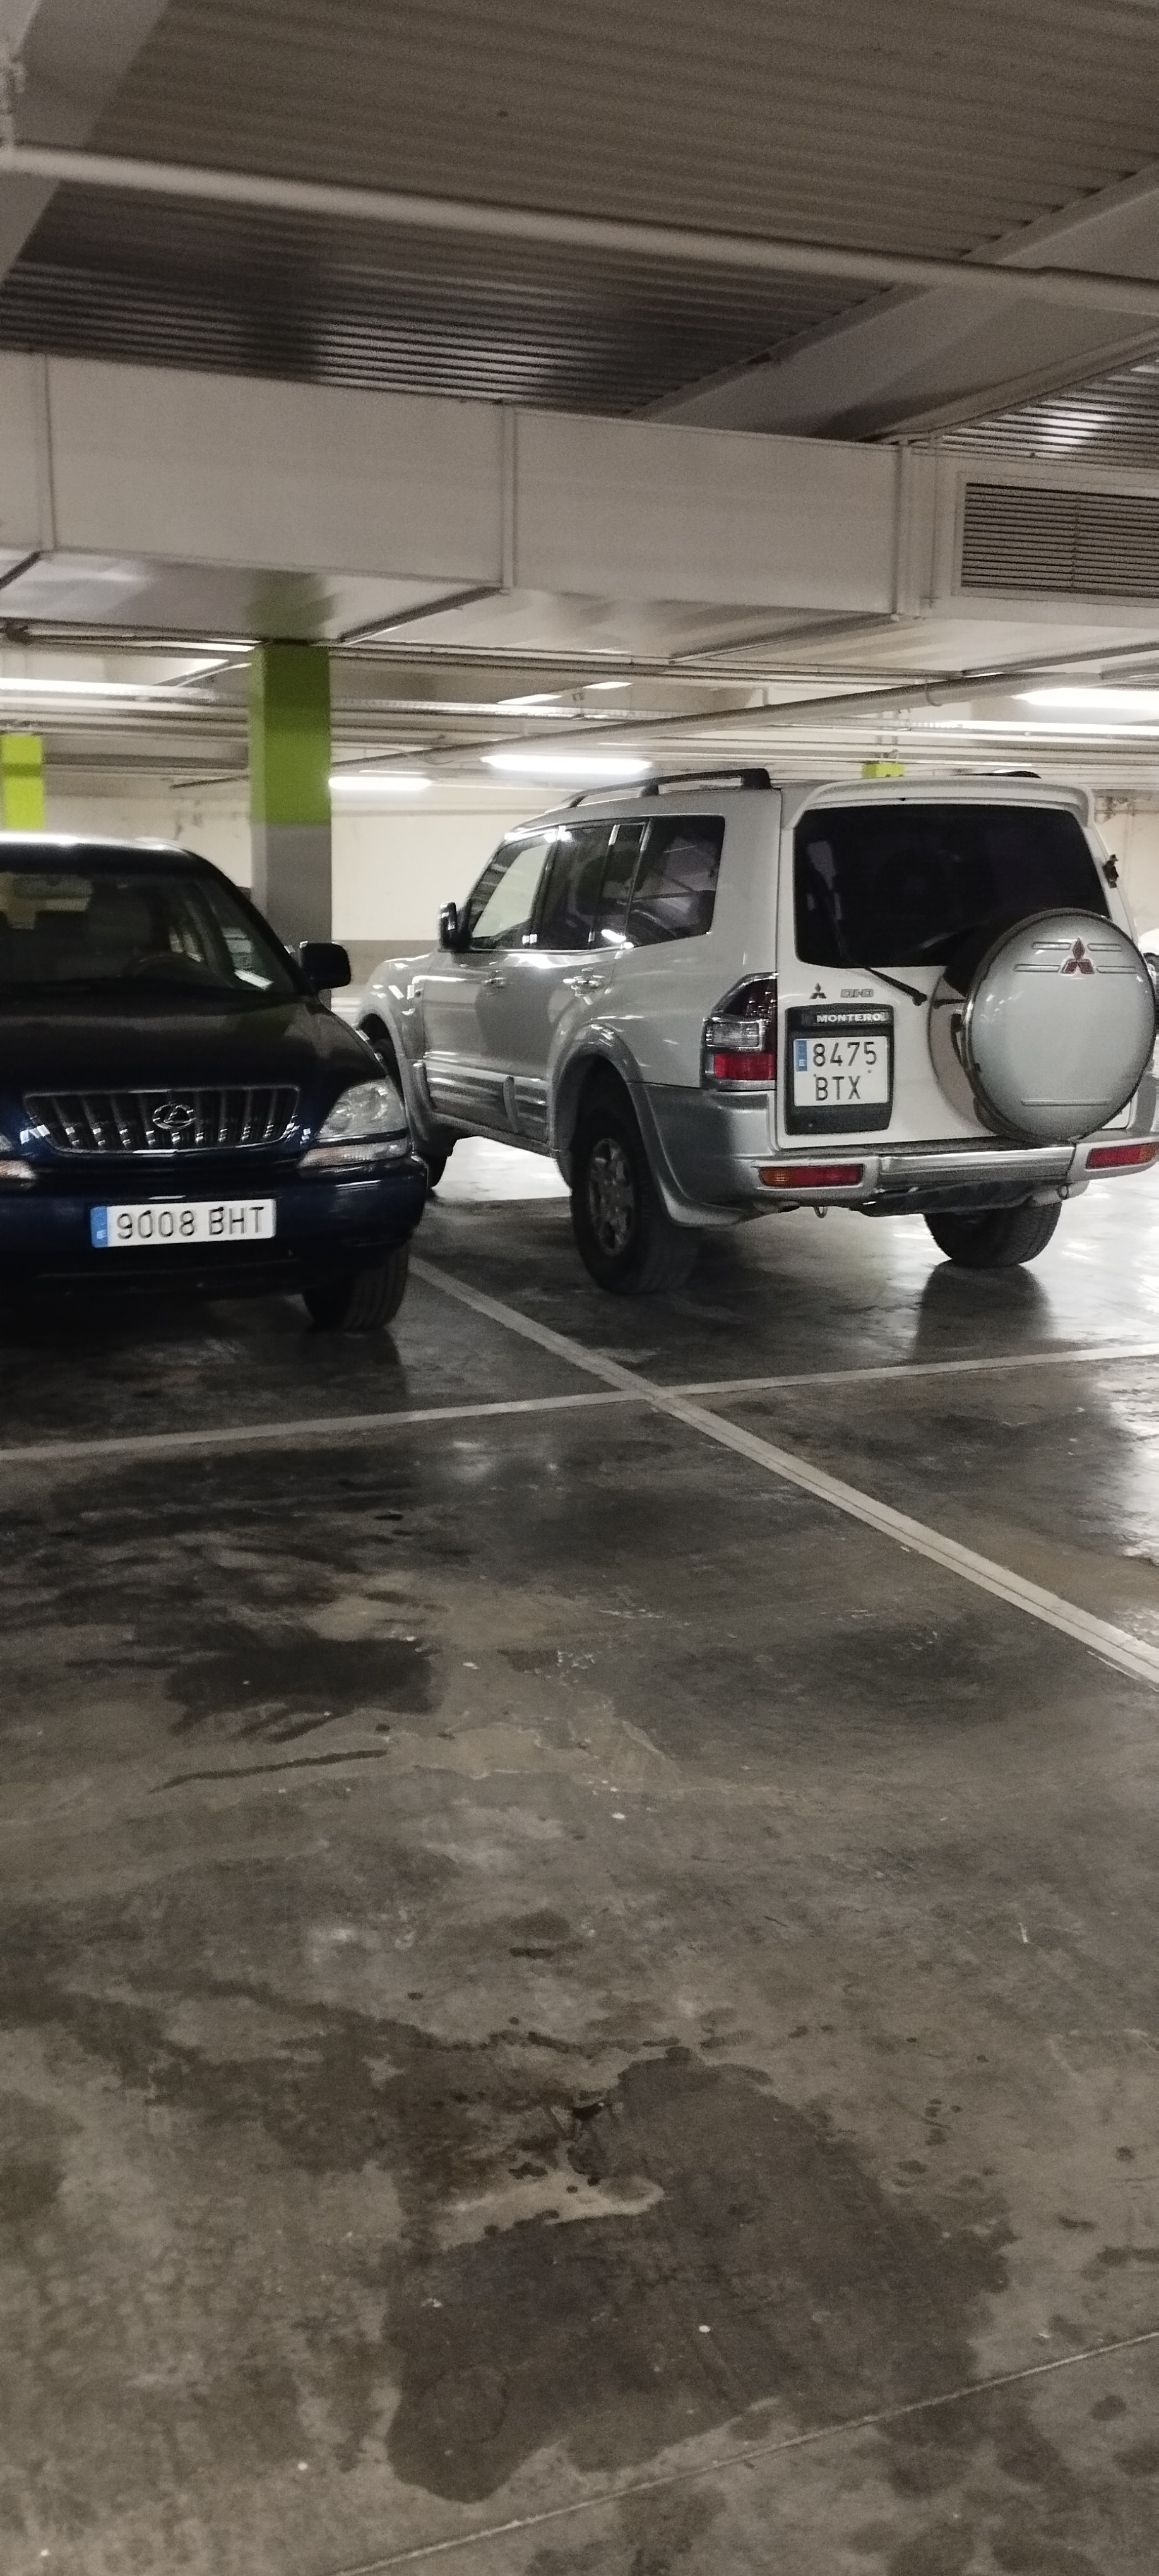Car: (386, 799, 1158, 1265), (0, 836, 406, 1340)
Plate: (87, 1203, 276, 1246), (788, 1032, 889, 1106)
